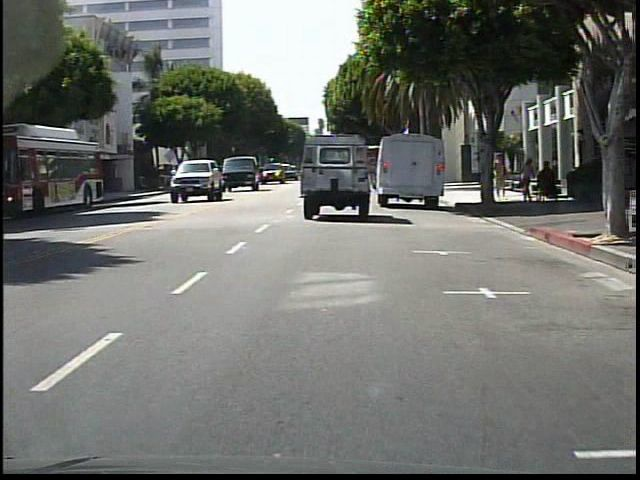person: (491, 154, 507, 204), (518, 160, 534, 202)
